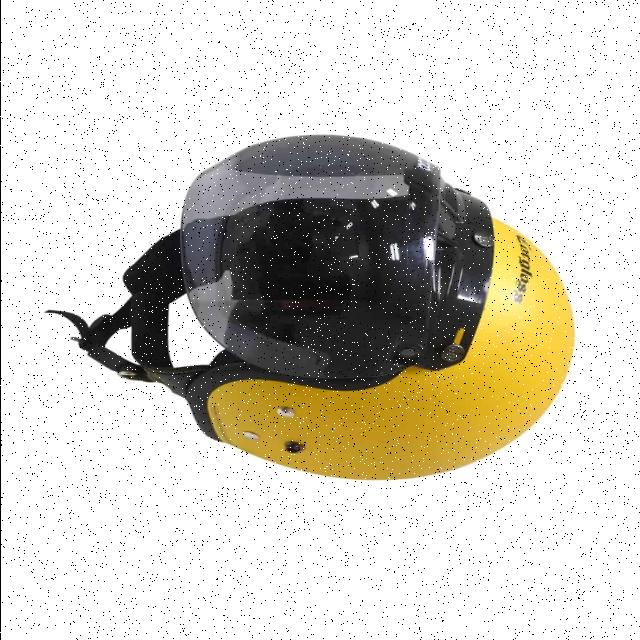Helmet: (57, 136, 574, 483)
